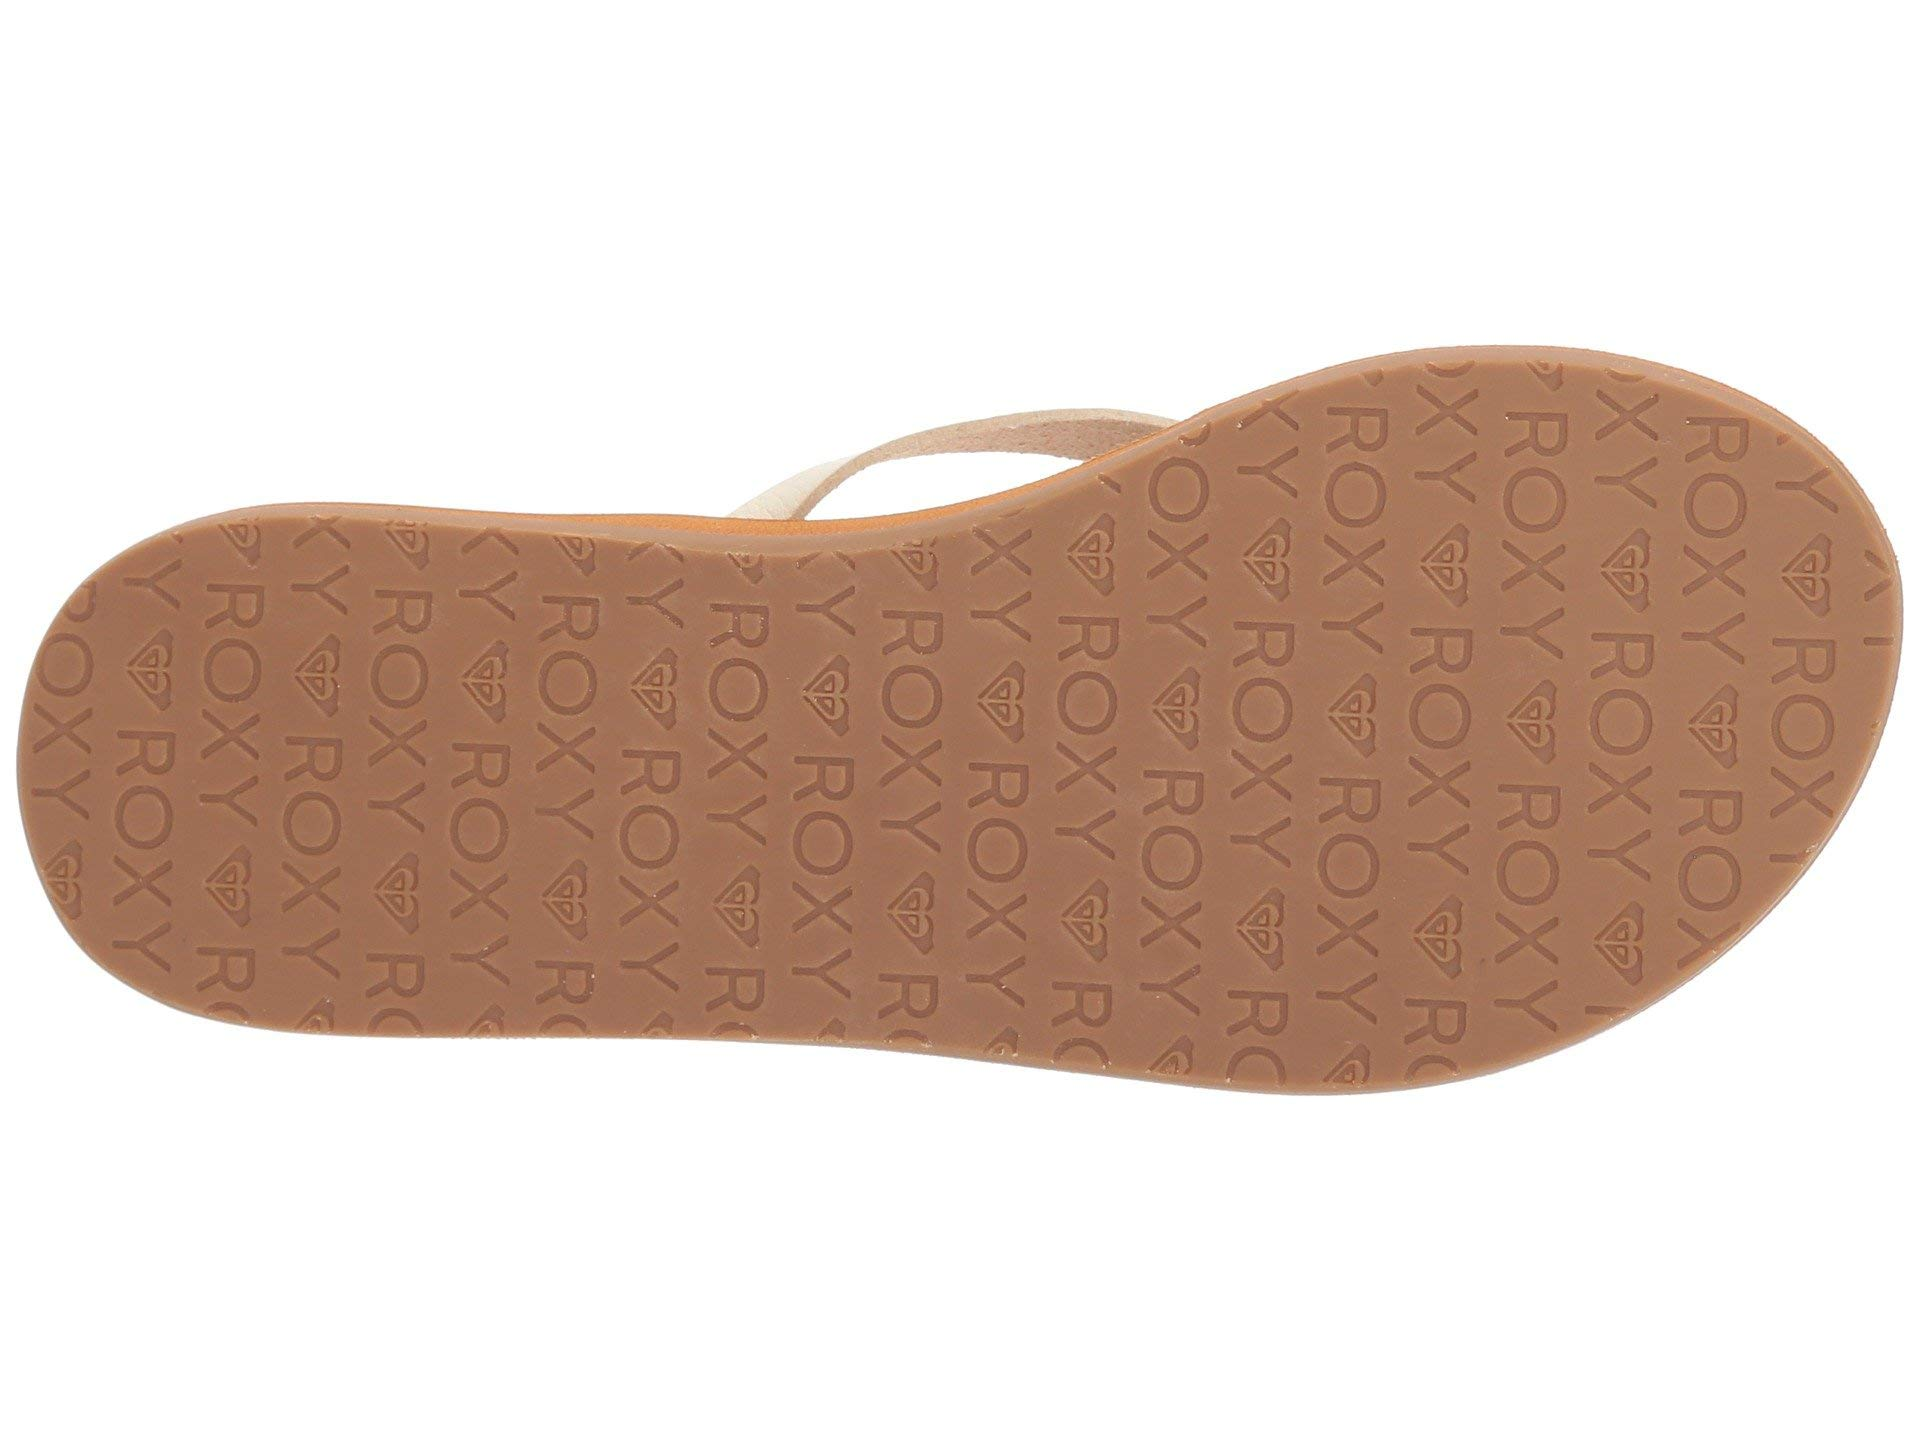circle: (242, 590, 1326, 973), (1423, 430, 1776, 879)
quad: (242, 590, 1326, 973), (1423, 430, 1776, 879)
triangle: (242, 590, 1326, 973), (1423, 430, 1776, 879)
